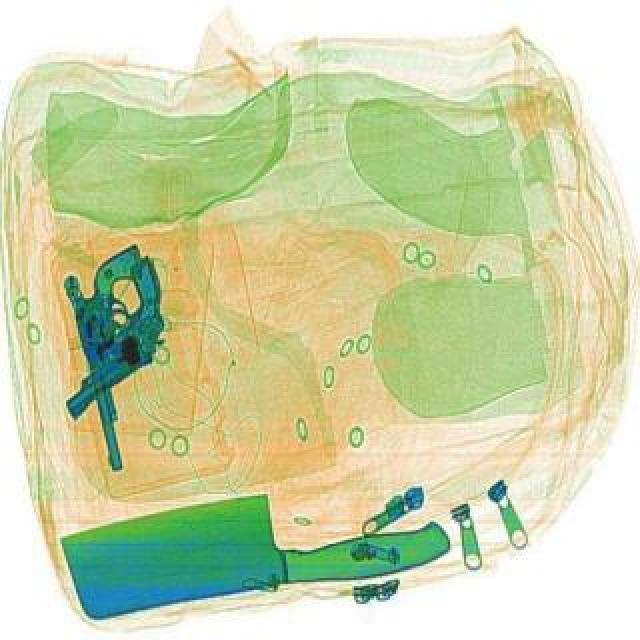gun: (10, 252, 206, 416), (56, 240, 192, 470)
knife: (60, 452, 456, 636)
